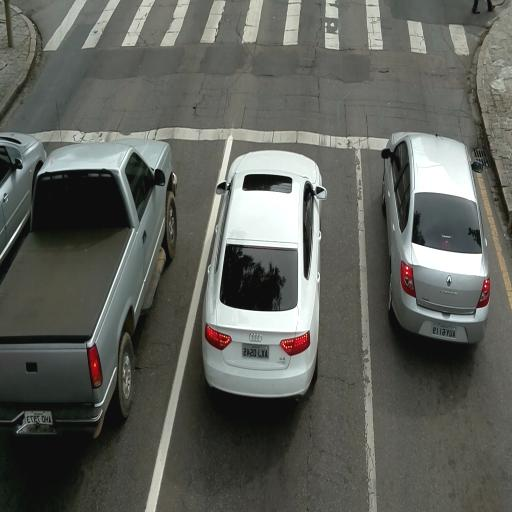car: (2, 131, 180, 445), (206, 149, 328, 399), (381, 130, 492, 344), (0, 131, 47, 288)
